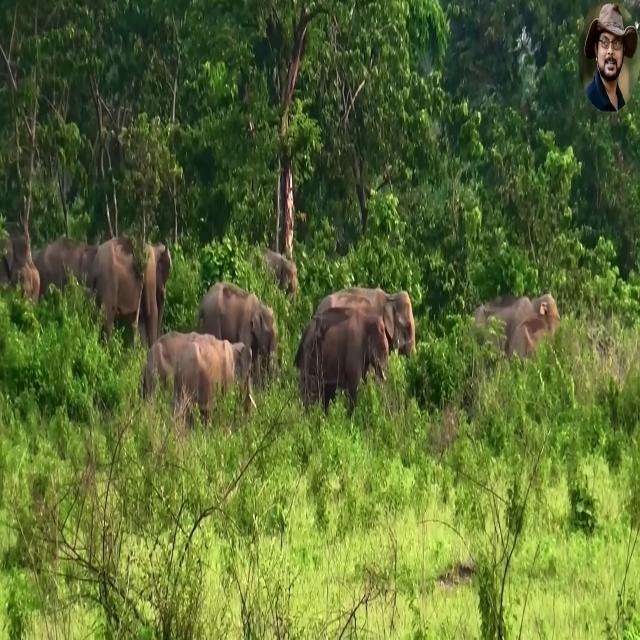Elephant: (293, 305, 389, 419), (89, 235, 171, 352), (196, 281, 278, 392), (315, 287, 416, 359), (470, 292, 560, 365)
person: (584, 2, 637, 111)
